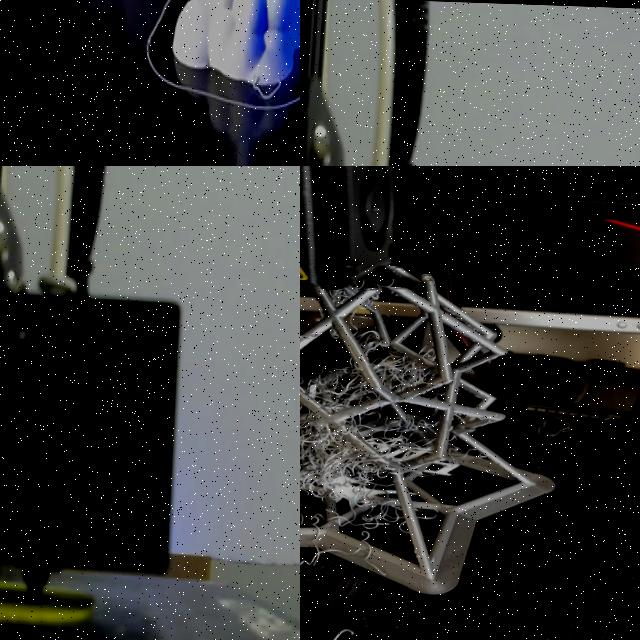spaghetti: (300, 330, 473, 588)
